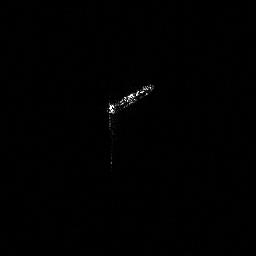ship: (102, 79, 157, 132)
